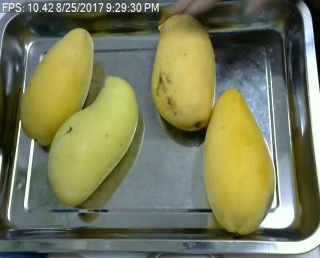Mango: (47, 76, 139, 206), (202, 90, 276, 235), (17, 27, 95, 148), (150, 13, 216, 131)
